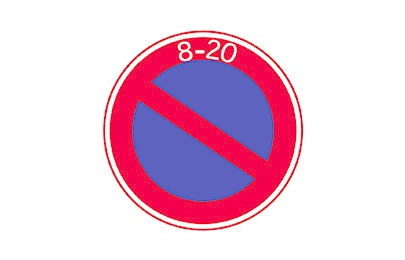Prohibition_sign: (106, 24, 312, 228)
